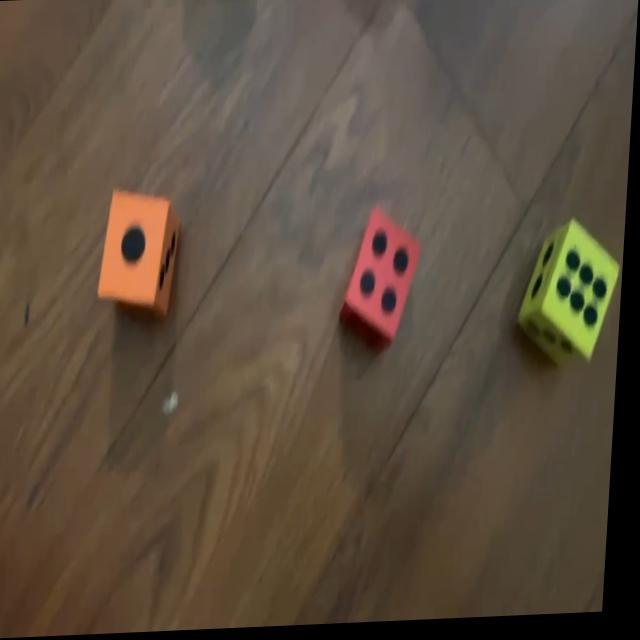red_block: (341, 205, 426, 355)
